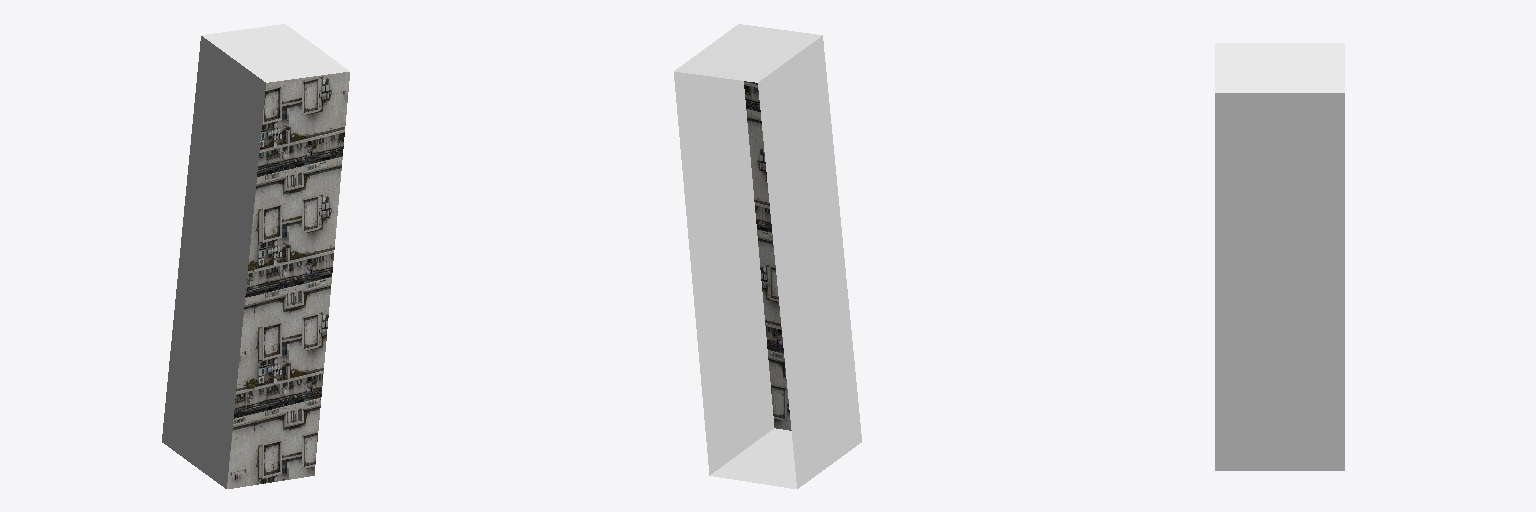
3 renders of one model, left to right at view 1: azimuth 30°, elevation 25°; view 2: azimuth 150°, elevation 25°; view 3: azimuth 270°, elevation 25°, orthographic.
Visible parts, largest first — view 1: Building; view 2: Building; view 3: Building.
Boxes of the visible parts, box(x1,y1,x2,y2) form: Building: box(162, 24, 349, 488); Building: box(674, 24, 861, 488); Building: box(1215, 43, 1344, 470).
Bounding box in the file's own units: 19.73 × 61.77 × 18.
2 materials, 1 textured.